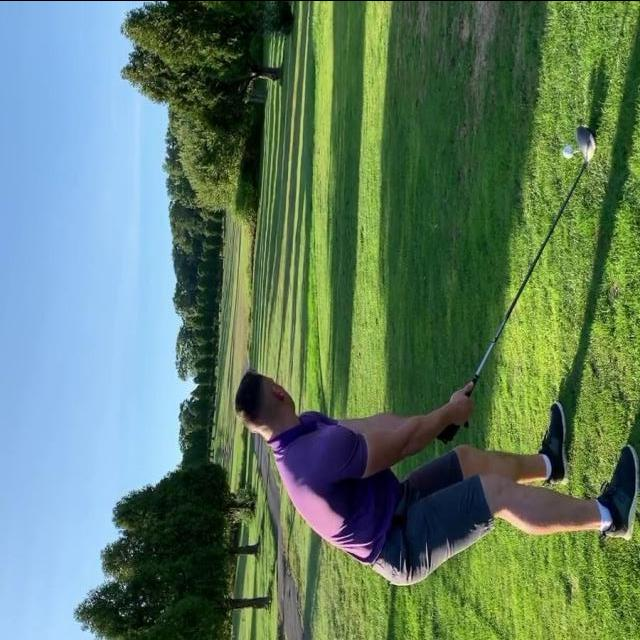ClubHandle: (443, 126, 596, 444)
ClubHead: (576, 126, 596, 161)
GolfBall: (564, 144, 574, 157)
